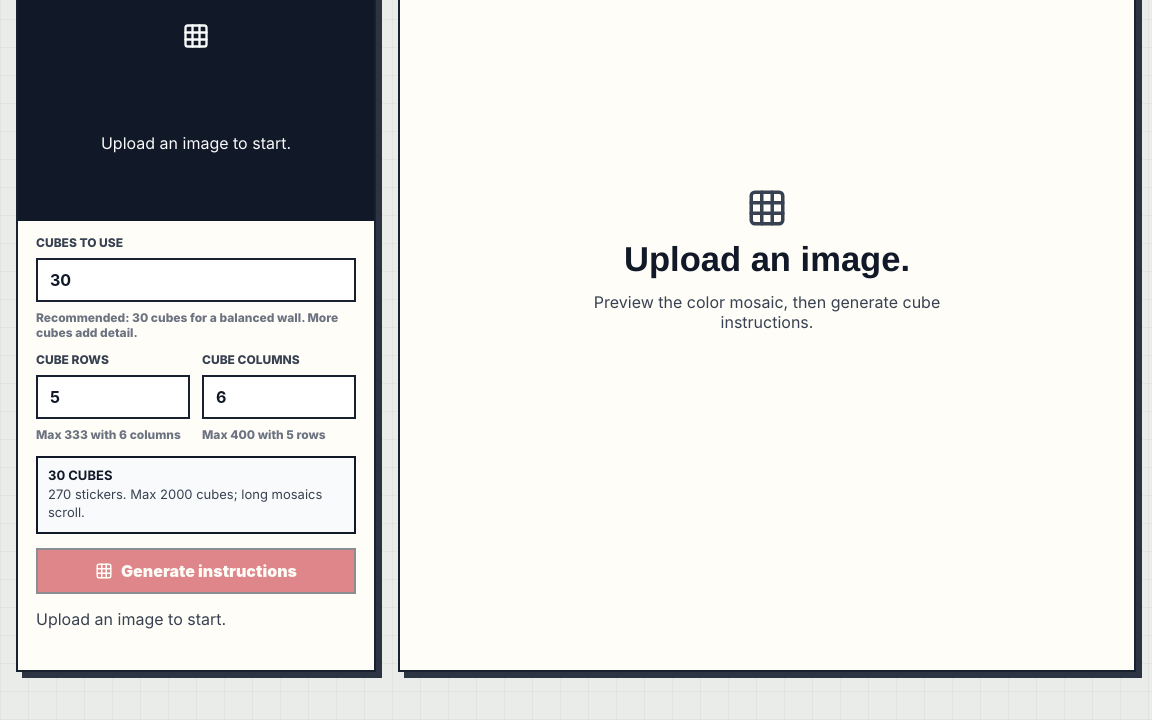
Test case: App › clamps huge dimensions to the exact instruction budget
(page scrolled)
Replace the text in the number field labelled "Cube rows Max 333 with 6 columns" with "200" at [113, 397], box [36, 375, 190, 419]
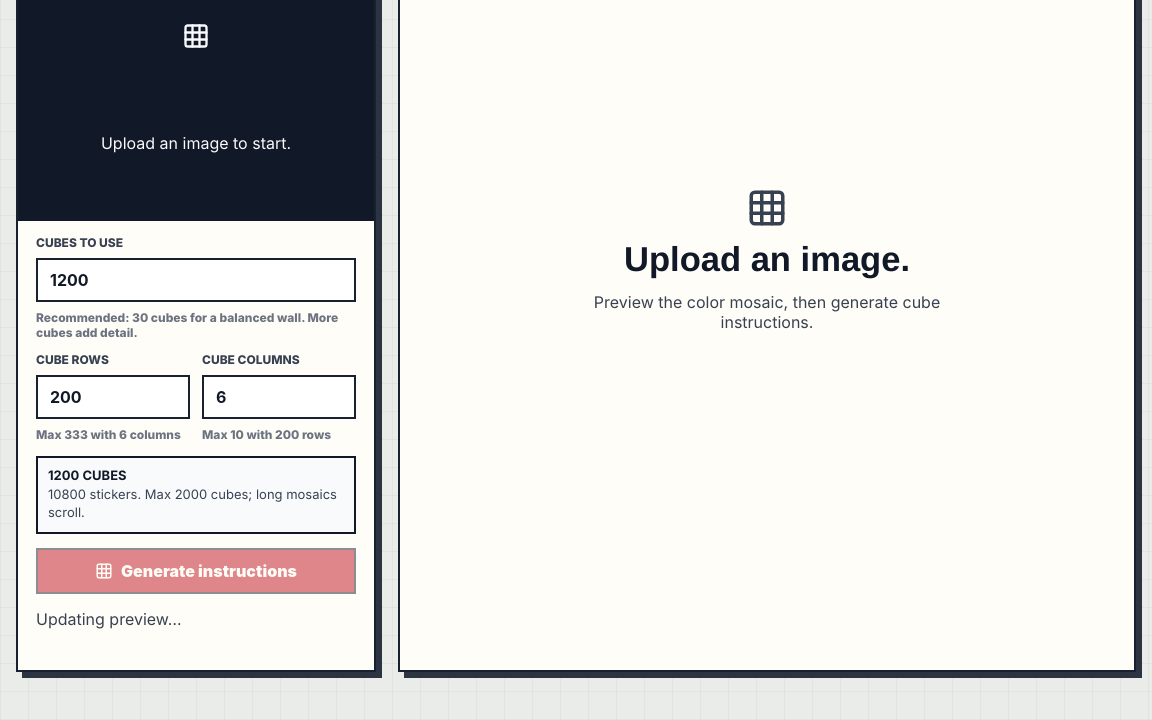
Replace the text in the number field labelled "Cube columns Max 10 with 200 rows" with "200" at [279, 397], box [202, 375, 356, 419]
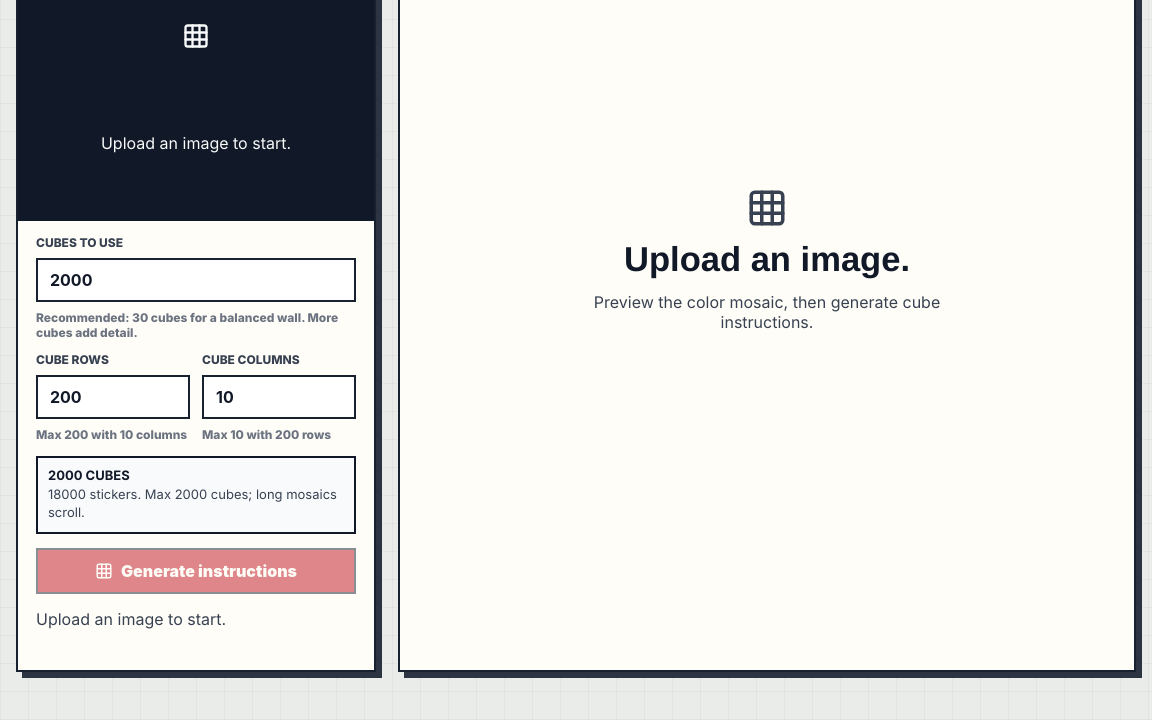
expect the text "18000 stickers. Max 2000 cubes; long mosaics scroll." is shown: met, box [48, 487, 344, 522]
expect the number field labelled "Cube columns Max 10 with 200 rows" holds "10": met, box [202, 375, 356, 419]
expect the text "2000 cubes" is shown: met, box [48, 468, 130, 484]
